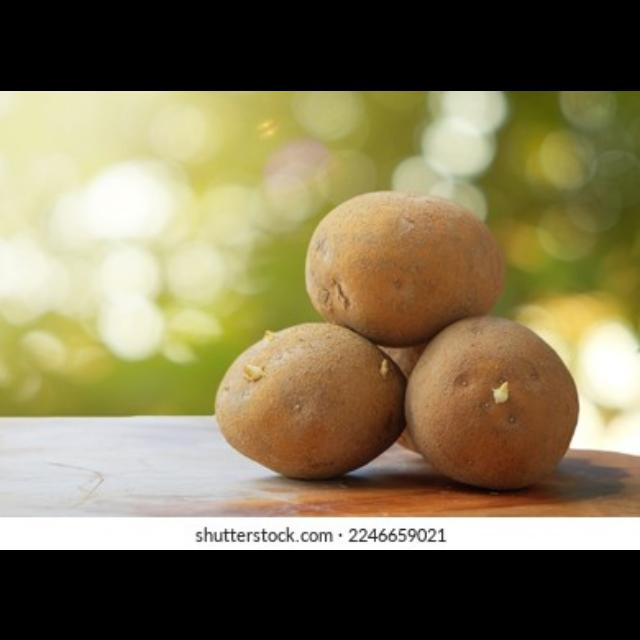Potato: (297, 173, 521, 349)
Sprouted potato: (205, 316, 415, 482), (402, 310, 582, 496)
